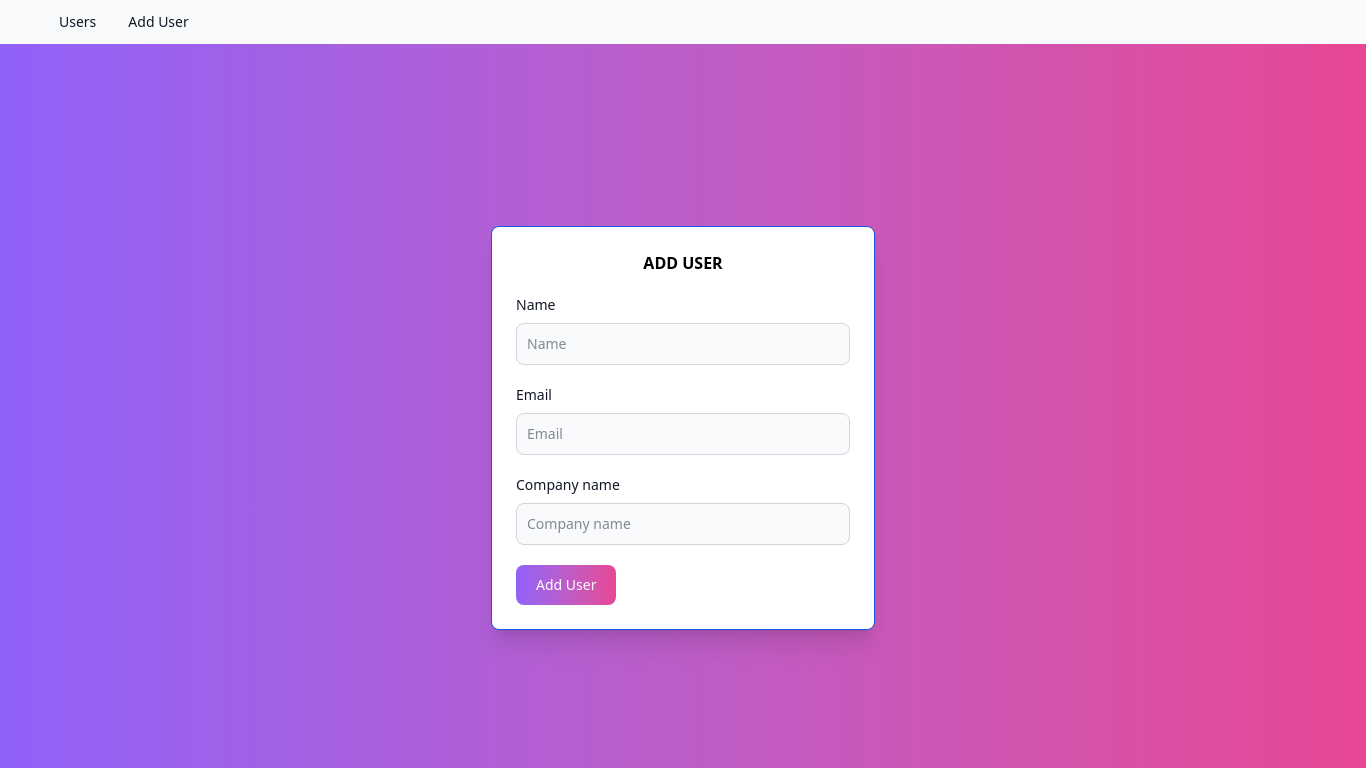
Test: UserForm Component › adds a user and clears the form
Type "New User" into the field labelled "Name" at point(683, 344), box x1=516 y1=323 x2=850 y2=365
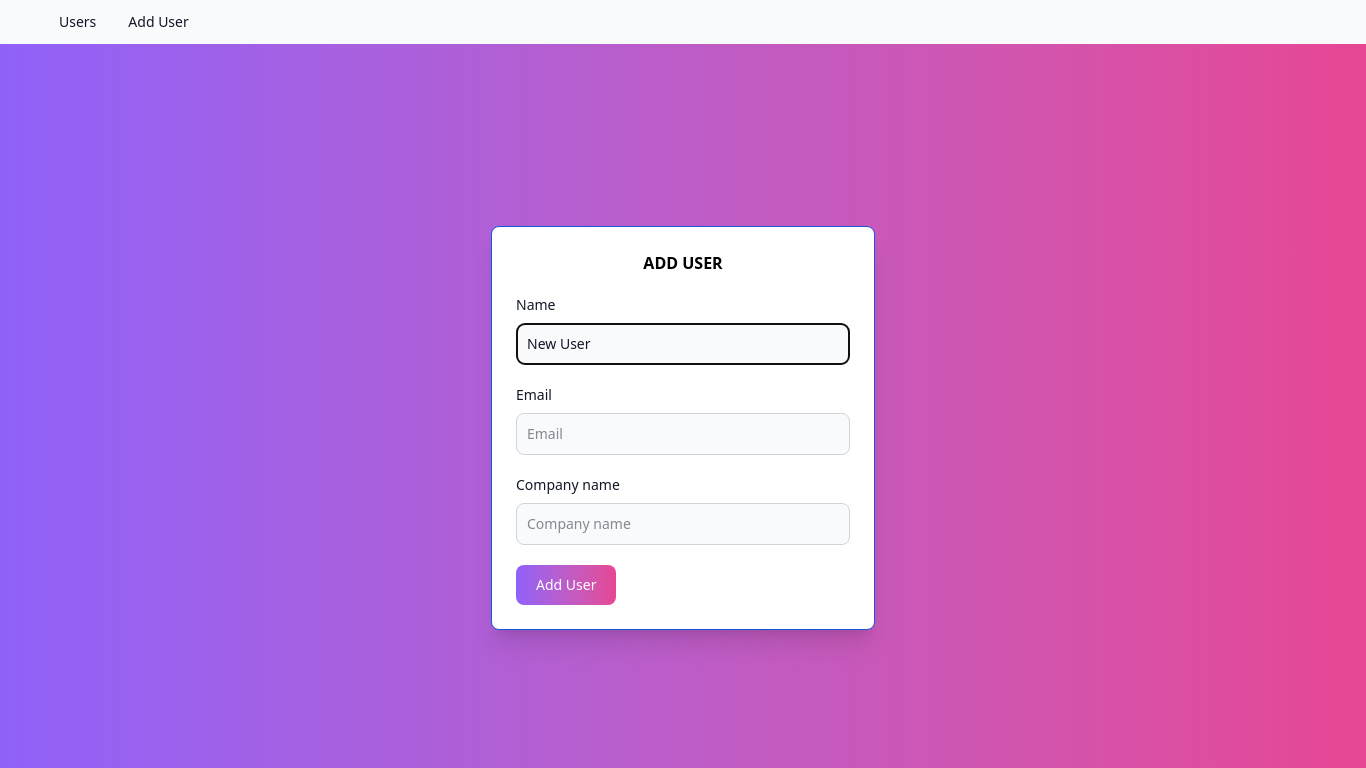
Type "new@example.com" into the field labelled "Email" at point(683, 434), box x1=516 y1=413 x2=850 y2=455
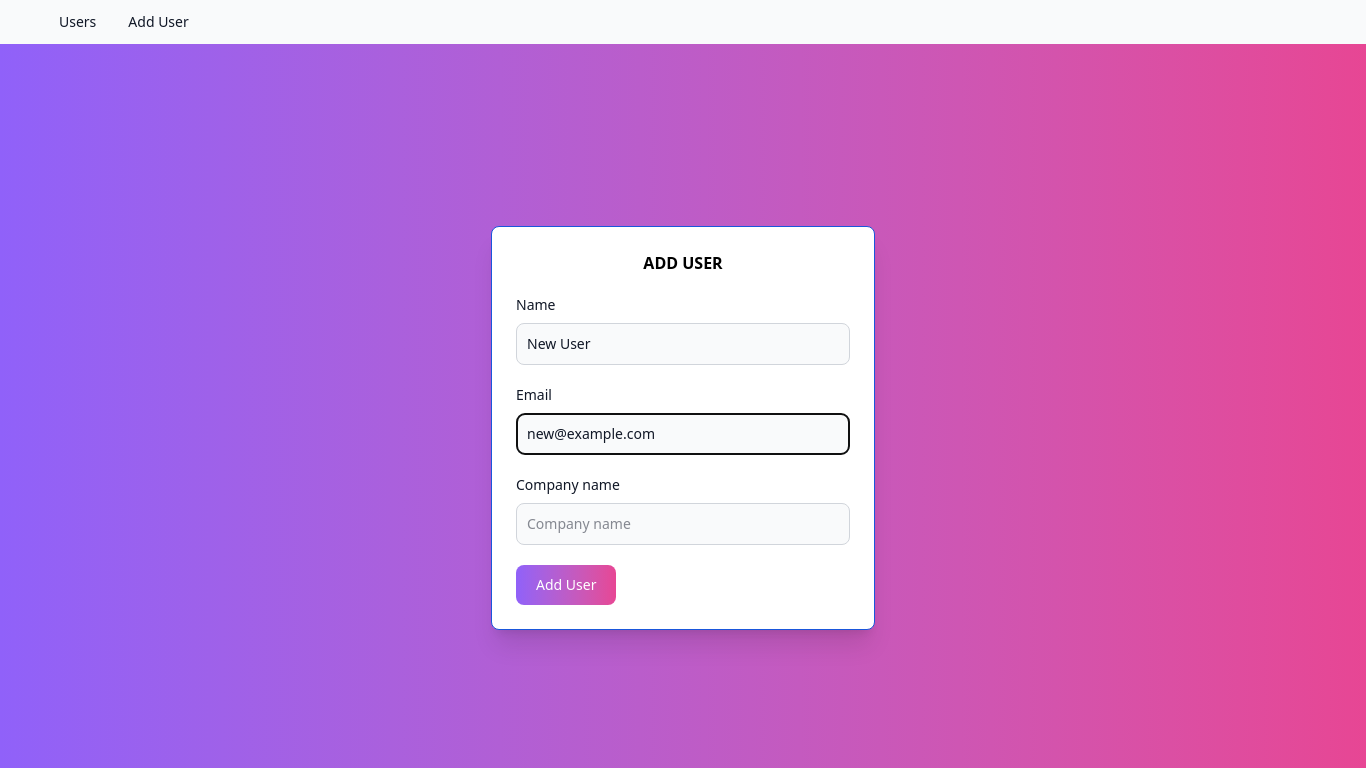
Type "New Co" into the field with placeholder "Company name" at point(683, 524), box x1=516 y1=503 x2=850 y2=545
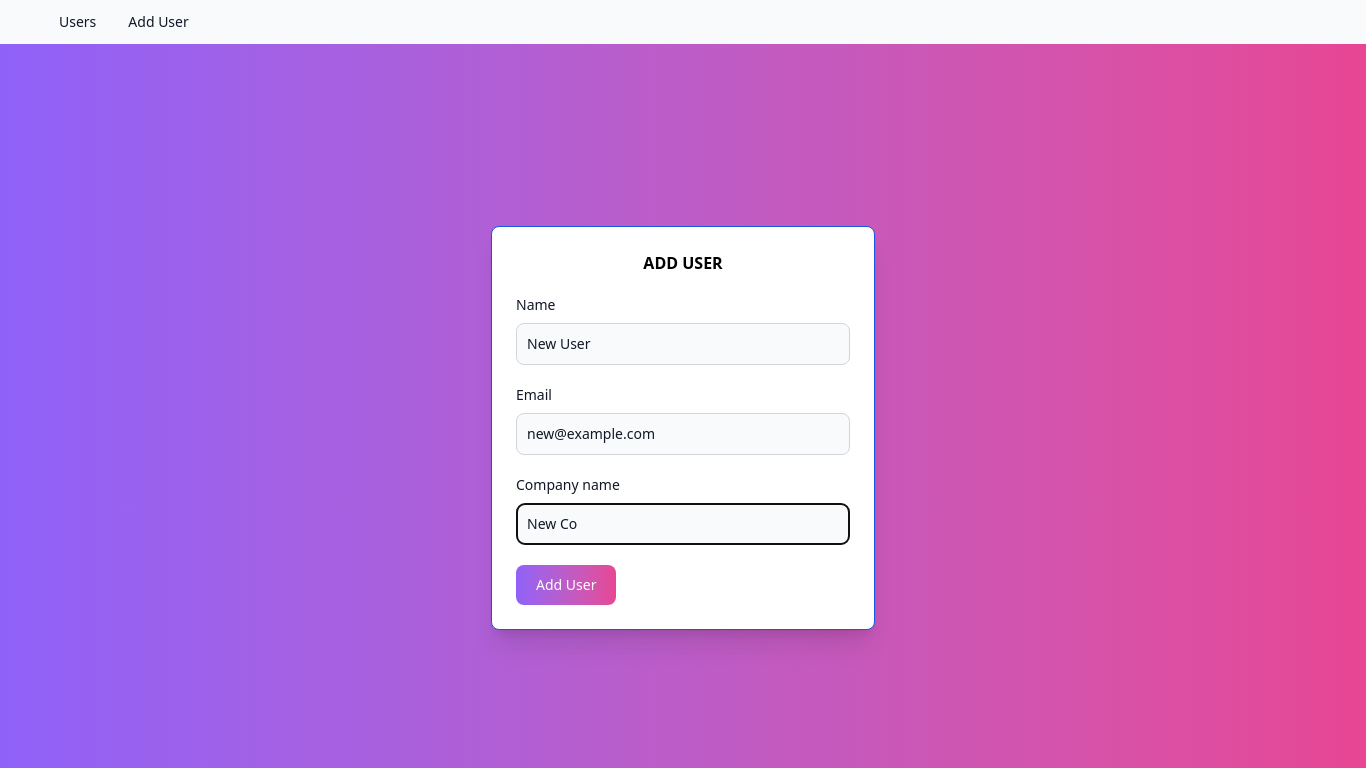
Click the button "Add User" at point(566, 585), box x1=516 y1=565 x2=616 y2=605
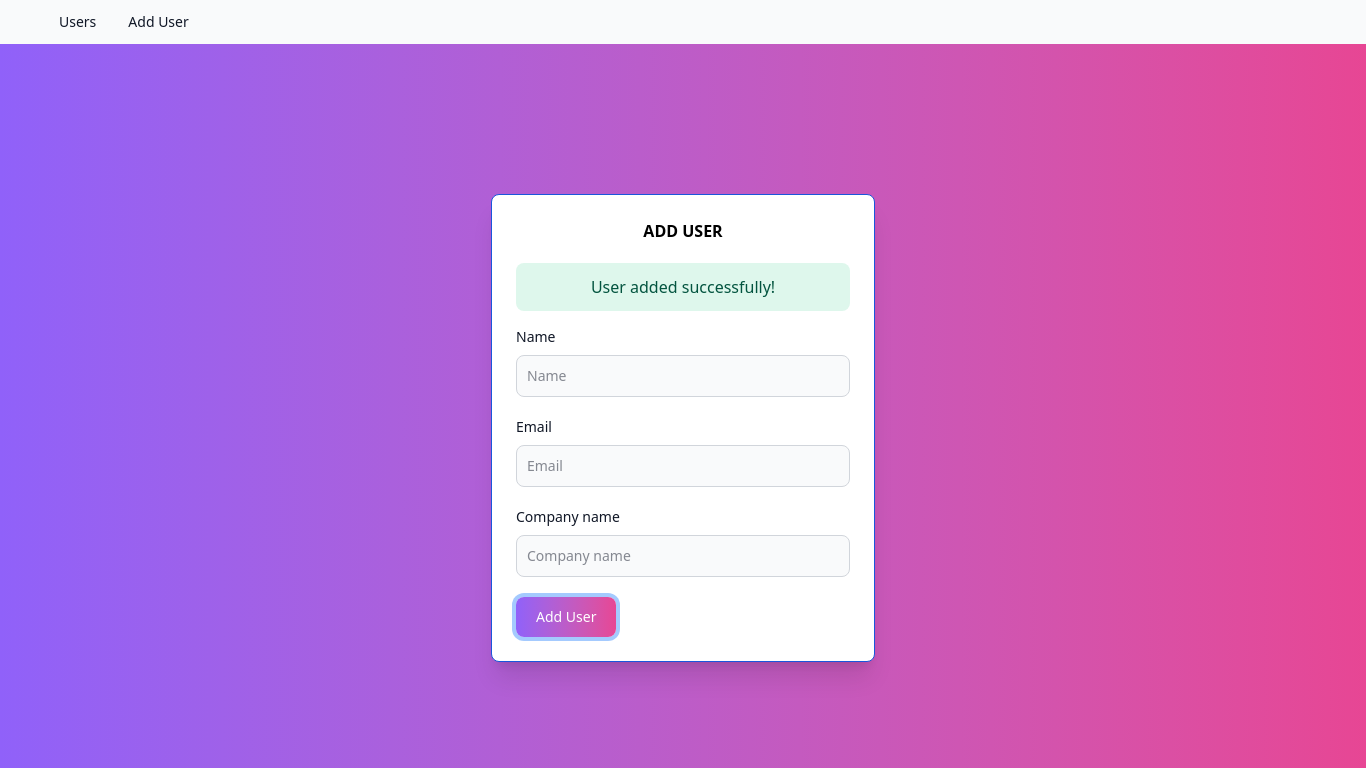
Now the text "User added successfully!" is shown, box x1=516 y1=263 x2=850 y2=311
Now the field labelled "Name" is empty, box x1=516 y1=355 x2=850 y2=397
Now the field labelled "Email" is empty, box x1=516 y1=445 x2=850 y2=487
